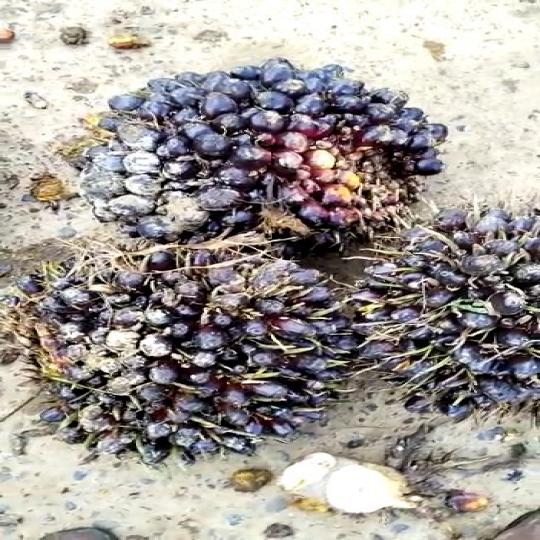mentah: (5, 246, 377, 462), (74, 49, 460, 242), (355, 205, 538, 416)
